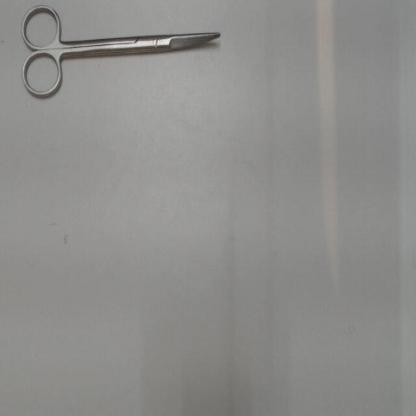Curved Mayo Scissors: (17, 3, 224, 106)
